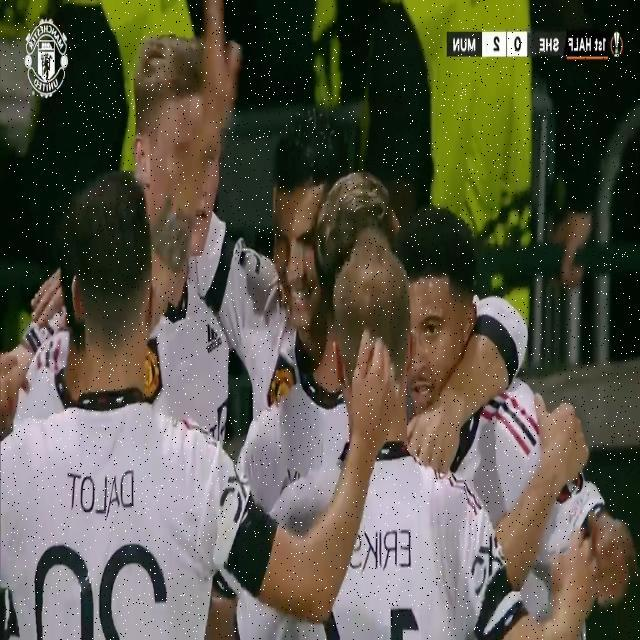Adidas: (206, 322, 222, 356)
